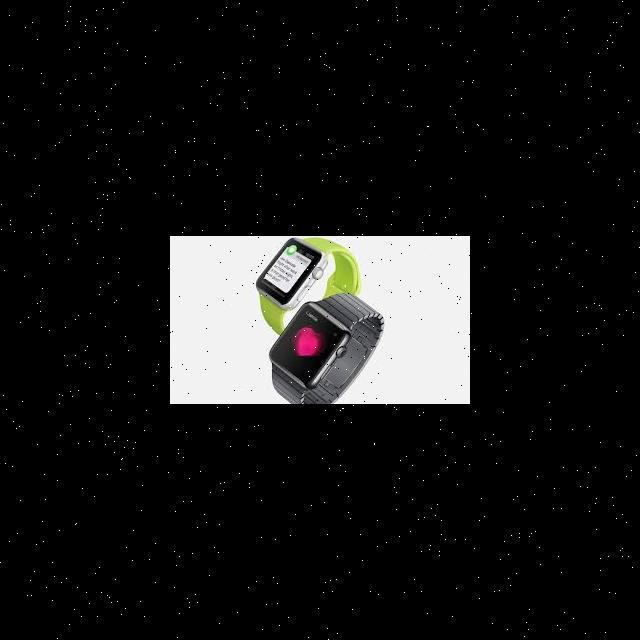watch: (250, 315, 420, 402), (260, 222, 365, 303)
